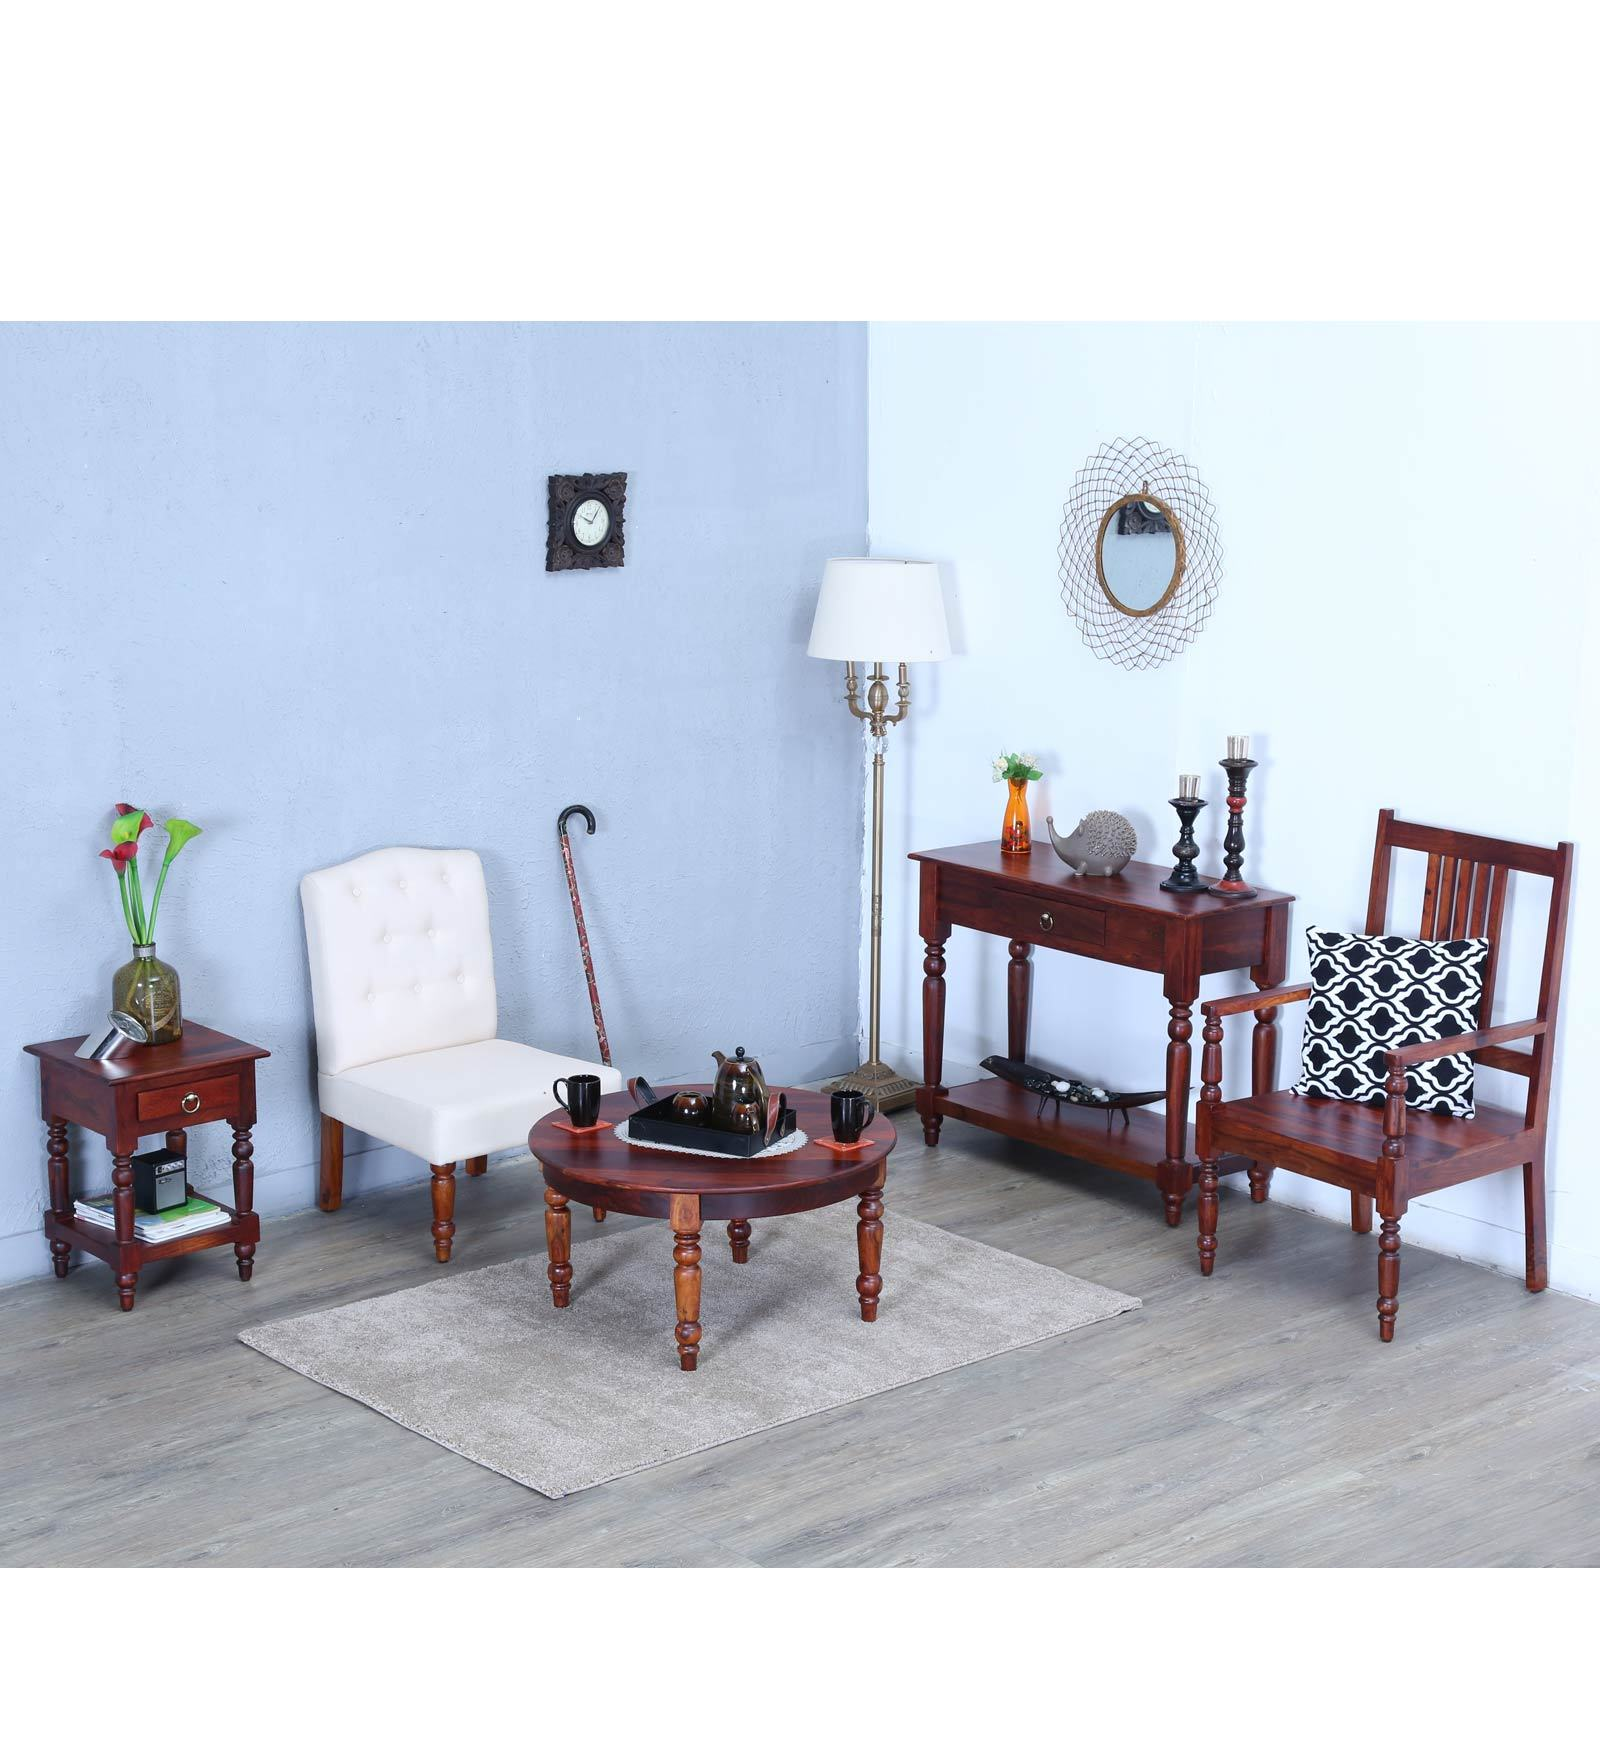Harleston Arm Chair in Honey Oak Finish by Amberville: (1174, 777, 1574, 1381)
